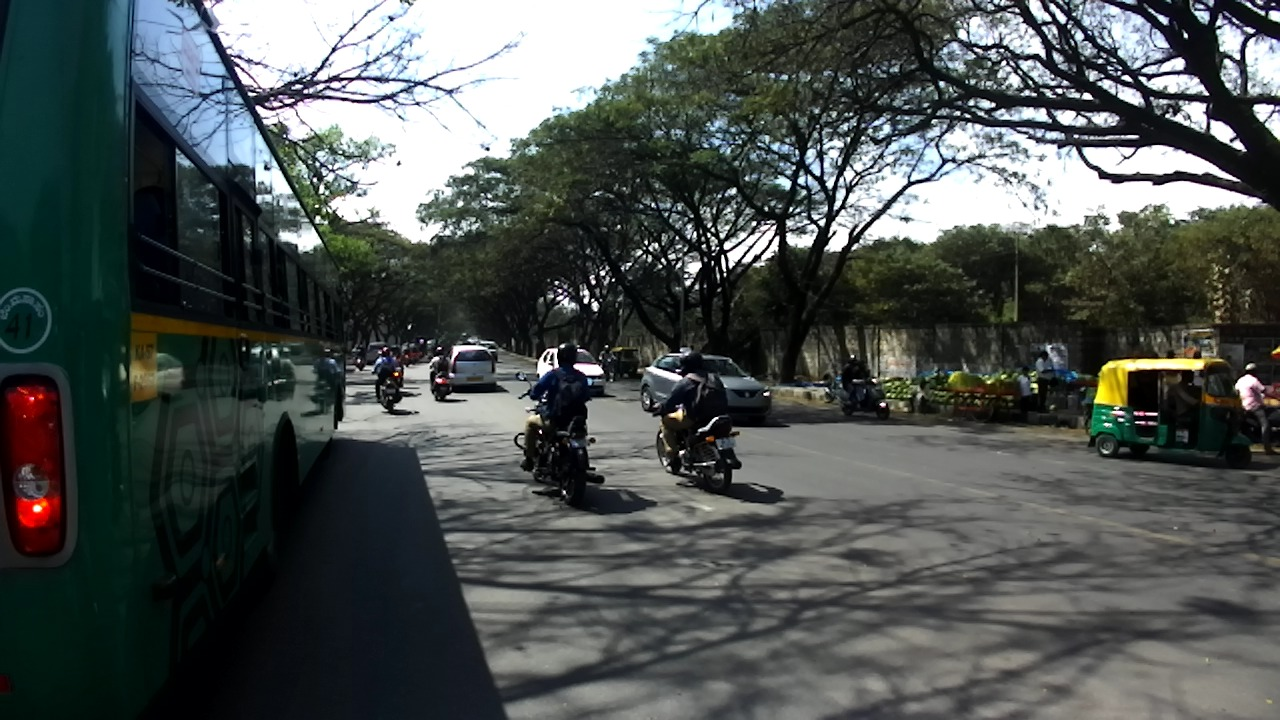autorickshaw: (1087, 358, 1255, 468), (609, 347, 639, 379)
bus: (1, 1, 360, 720)
car: (637, 350, 773, 424), (536, 343, 606, 396), (443, 345, 498, 390), (366, 341, 387, 363), (400, 341, 424, 360), (477, 341, 498, 362), (425, 339, 435, 352)
motorcycle: (513, 370, 607, 504), (650, 396, 741, 494), (838, 371, 893, 420), (1240, 403, 1279, 446), (371, 367, 403, 412), (428, 364, 453, 400), (820, 375, 849, 402), (600, 357, 622, 382), (392, 366, 406, 387), (401, 351, 412, 368), (355, 356, 365, 371)
person: (1015, 366, 1036, 427), (1035, 350, 1054, 413), (1165, 348, 1176, 359), (1193, 350, 1201, 358)
rider: (519, 342, 591, 471), (655, 353, 729, 470), (1234, 363, 1277, 454), (373, 347, 404, 403), (844, 355, 869, 408), (430, 347, 451, 390), (388, 344, 404, 378), (599, 344, 618, 368), (351, 344, 368, 362), (401, 342, 414, 359), (685, 344, 696, 354)
vehicle fallback: (939, 373, 1024, 425), (465, 335, 481, 346), (459, 333, 468, 341)
